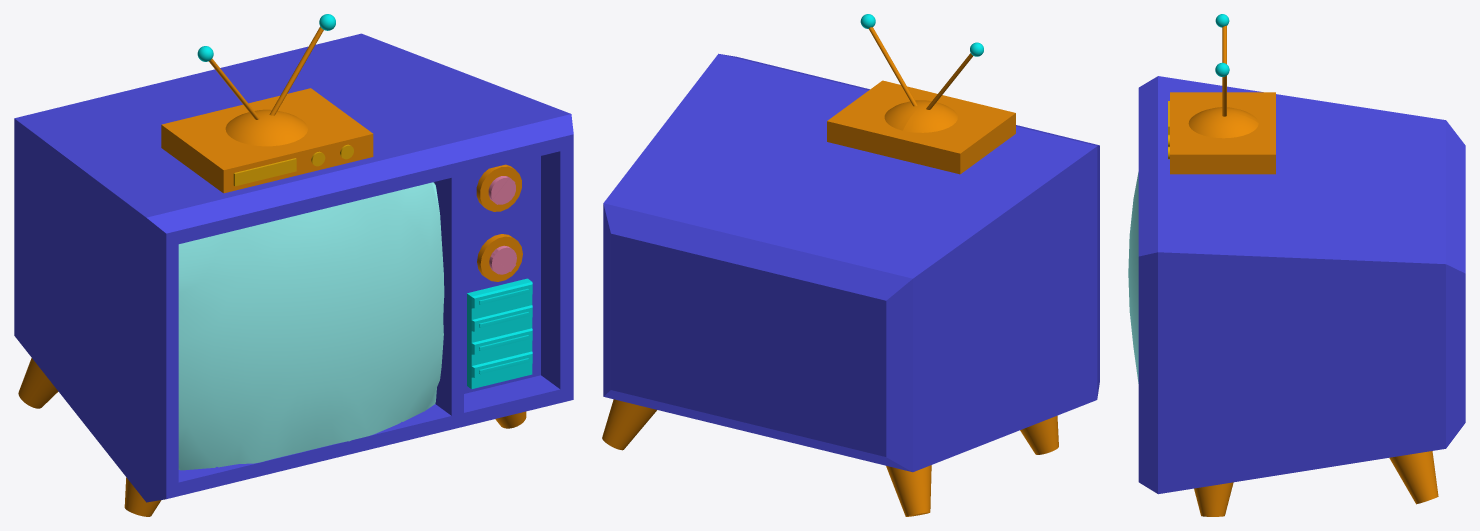
3 renders of one model, left to right at view 1: azimuth 30°, elevation 25°; view 2: azimuth 150°, elevation 25°; view 3: azimuth 270°, elevation 25°, orthographic. The views are drawn at different scales.
Parts seen in each view (by area): view 1: Box003; view 2: Box003; view 3: Box003.
Boxes of the visible parts, box(x1,y1,x2,y2) form: Box003: box(14, 14, 573, 516); Box003: box(602, 14, 1099, 516); Box003: box(1128, 14, 1465, 516).
Size of the model in its own units: 2.8 by 2.83 by 2.27.
